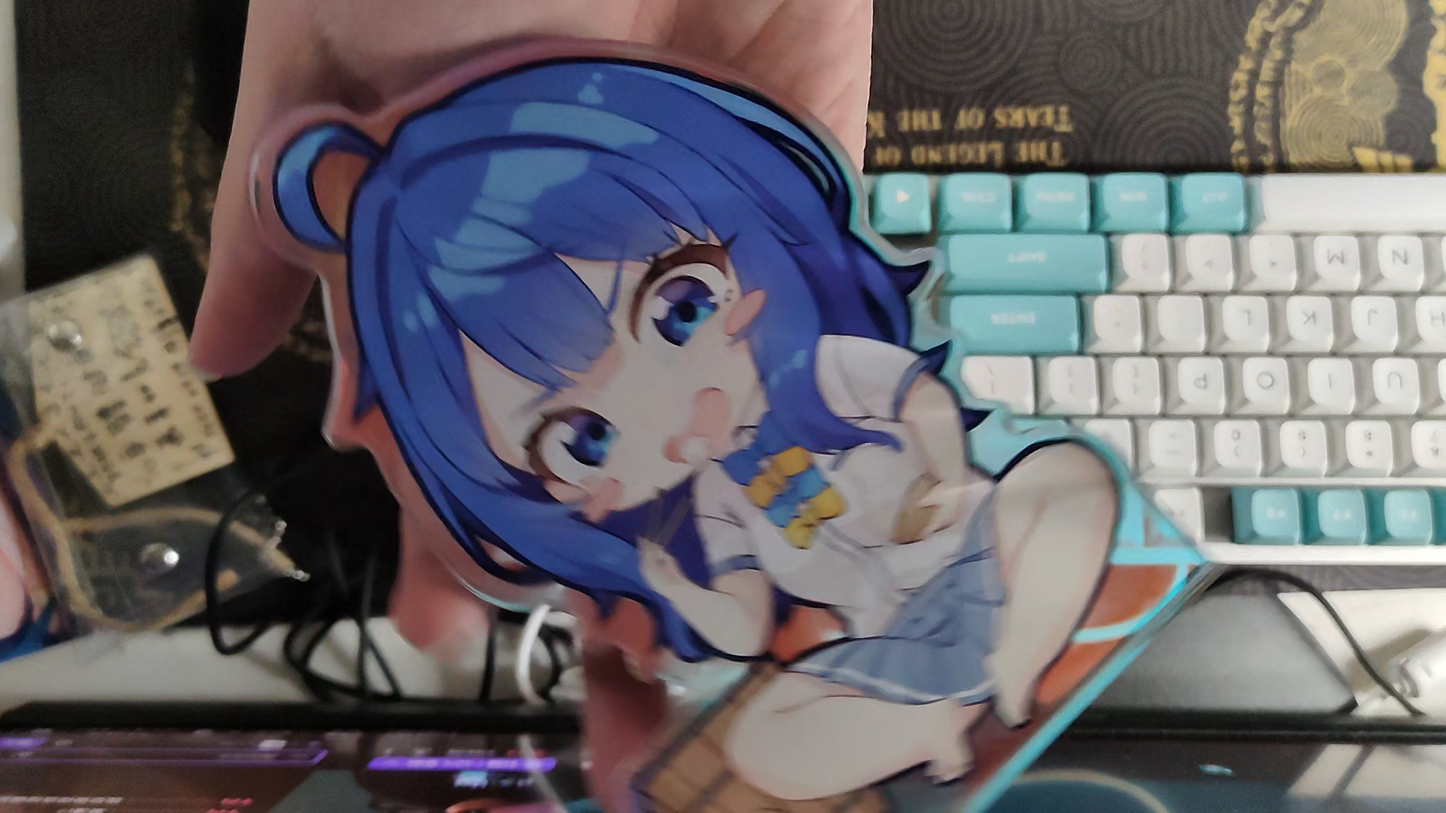Yanami-anna: (248, 40, 1226, 813)
